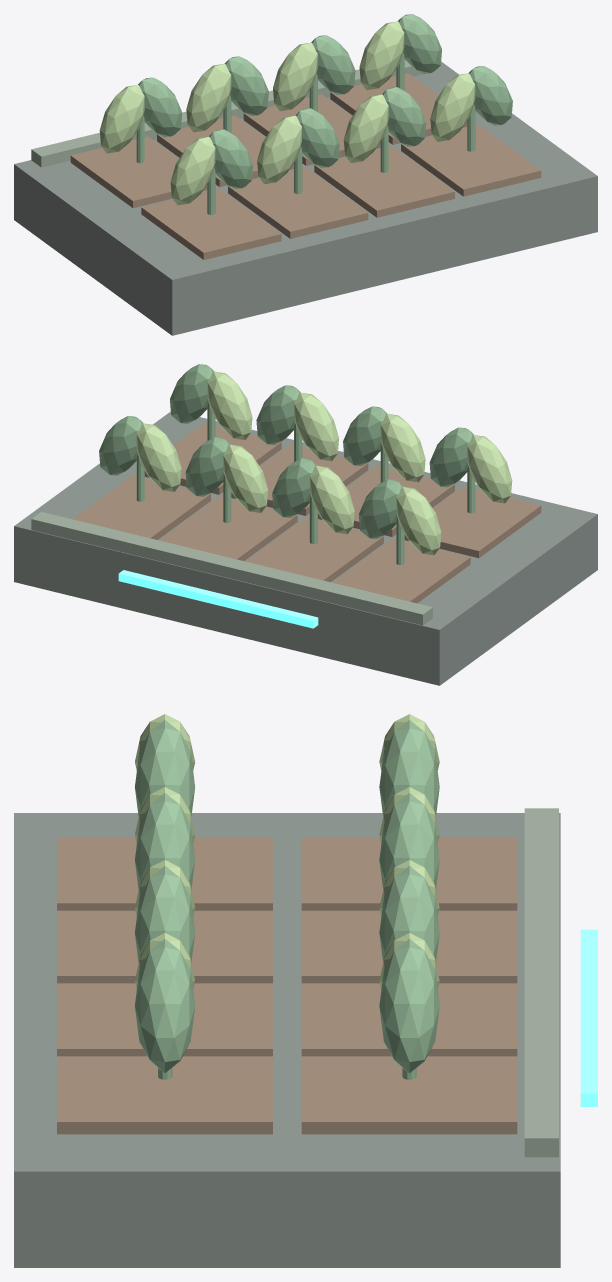
Rendered from s7-e0e1-cn01-seedling-tray-demo.glb.
3 views of the same model, one above another, from view 1: azimuth 30°, elevation 25°; view 2: azimuth 150°, elevation 25°; view 3: azimuth 270°, elevation 25° (orthographic). The views are drawn at different scales.
Parts seen in each view (by area): view 1: seedling-tray-shell-000, tray-compartment-006, tray-compartment-030, tray-compartment-022, tray-compartment-014, tray-compartment-002, front-edge-001, leaf-mesh-032, leaf-mesh-012, leaf-mesh-028, leaf-mesh-008, leaf-mesh-016 (+14 smaller); view 2: seedling-tray-shell-000, front-edge-001, tray-compartment-002, tray-compartment-026, tray-compartment-018, tray-compartment-010, tray-compartment-006, tray-status-indicator-034, leaf-mesh-028, leaf-mesh-016, leaf-mesh-032, leaf-mesh-004 (+15 smaller); view 3: seedling-tray-shell-000, tray-compartment-026, tray-compartment-030, front-edge-001, tray-compartment-018, tray-compartment-022, tray-compartment-002, tray-compartment-010, tray-compartment-006, tray-compartment-014, leaf-mesh-029, leaf-mesh-033 (+7 smaller).
Boxes of the visible parts, x1,y1,x2,y2 form: seedling-tray-shell-000: (14, 62, 597, 335); tray-compartment-006: (141, 188, 281, 259); tray-compartment-030: (401, 125, 541, 196); tray-compartment-022: (314, 146, 454, 217); tray-compartment-014: (228, 167, 368, 238); tray-compartment-002: (70, 136, 207, 208); front-edge-001: (31, 59, 425, 167); leaf-mesh-032: (430, 73, 475, 141); leaf-mesh-012: (186, 63, 231, 132); leaf-mesh-028: (359, 21, 404, 89); leaf-mesh-008: (170, 136, 215, 205); leaf-mesh-016: (257, 115, 301, 184); seedling-tray-shell-000: (14, 412, 597, 685); front-edge-001: (31, 512, 432, 625); tray-compartment-002: (332, 538, 470, 603); tray-compartment-026: (72, 475, 210, 539); tray-compartment-018: (159, 496, 297, 560); tray-compartment-010: (246, 517, 383, 582); tray-compartment-006: (404, 486, 541, 558); tray-status-indicator-034: (118, 570, 318, 628); leaf-mesh-028: (136, 423, 181, 491); leaf-mesh-016: (380, 413, 425, 482); leaf-mesh-032: (207, 371, 252, 439); leaf-mesh-004: (396, 486, 441, 555); seedling-tray-shell-000: (14, 813, 560, 1267); tray-compartment-026: (301, 1056, 517, 1134); tray-compartment-030: (57, 1056, 272, 1134); front-edge-001: (524, 808, 558, 1157); tray-compartment-018: (301, 983, 517, 1056); tray-compartment-022: (57, 983, 272, 1056); tray-compartment-002: (301, 837, 517, 910); tray-compartment-010: (301, 910, 517, 983); tray-compartment-006: (57, 837, 272, 910); tray-compartment-014: (57, 910, 272, 983); leaf-mesh-029: (379, 938, 439, 1073); leaf-mesh-033: (135, 939, 195, 1072).
Bounding box in the file's own units: 0.59 × 0.2004 × 0.406.
